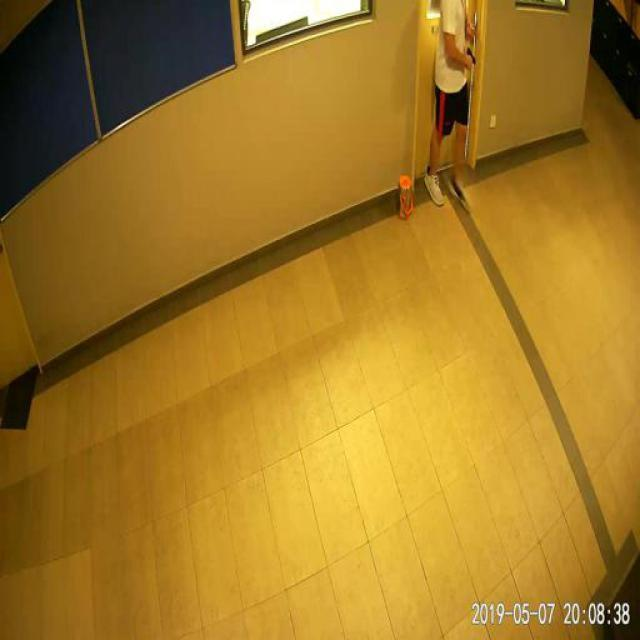weapon: (464, 49, 478, 68)
